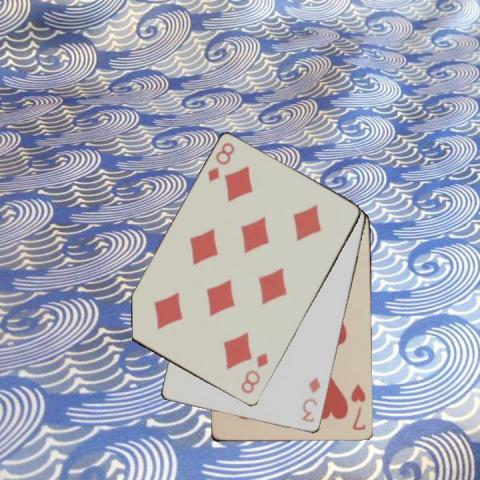3d: (299, 375, 322, 424)
7h: (348, 382, 367, 432)
8d: (238, 350, 270, 396), (205, 139, 236, 184)
